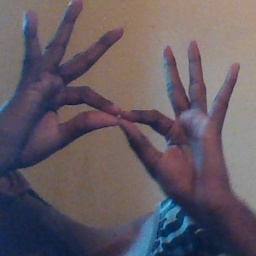B: (31, 54, 195, 170)
